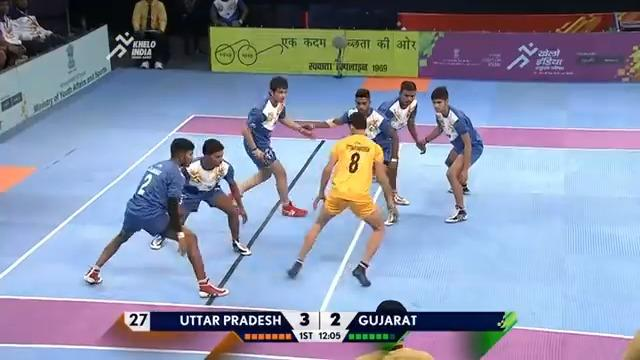Player: (83, 137, 230, 300), (227, 75, 312, 223), (149, 137, 252, 256), (300, 87, 401, 206), (416, 85, 483, 223), (374, 80, 426, 205)
Raider: (285, 112, 399, 287)
referee: (2, 0, 66, 57), (131, 0, 168, 69), (0, 0, 28, 70), (179, 0, 208, 56), (131, 0, 167, 33)
